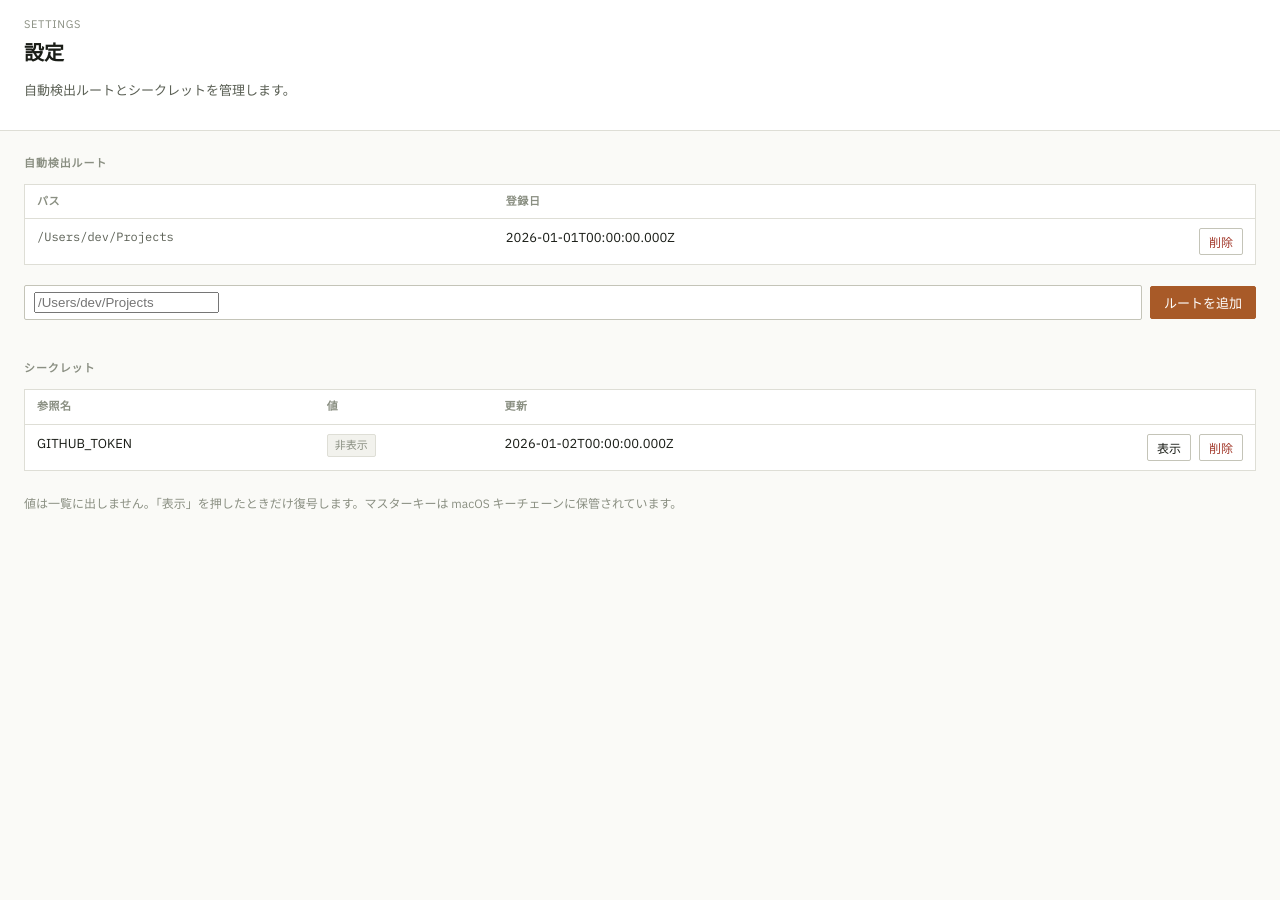
Settings › confirms before deleting a root, and cancel sends no DELETE
Expected: the text "/Users/dev/Projects" is shown, [25,219,494,264]
Click the button "削除" in the row of "/Users/dev/Projects". click: (1221,242)
box: [1199,228,1243,255]
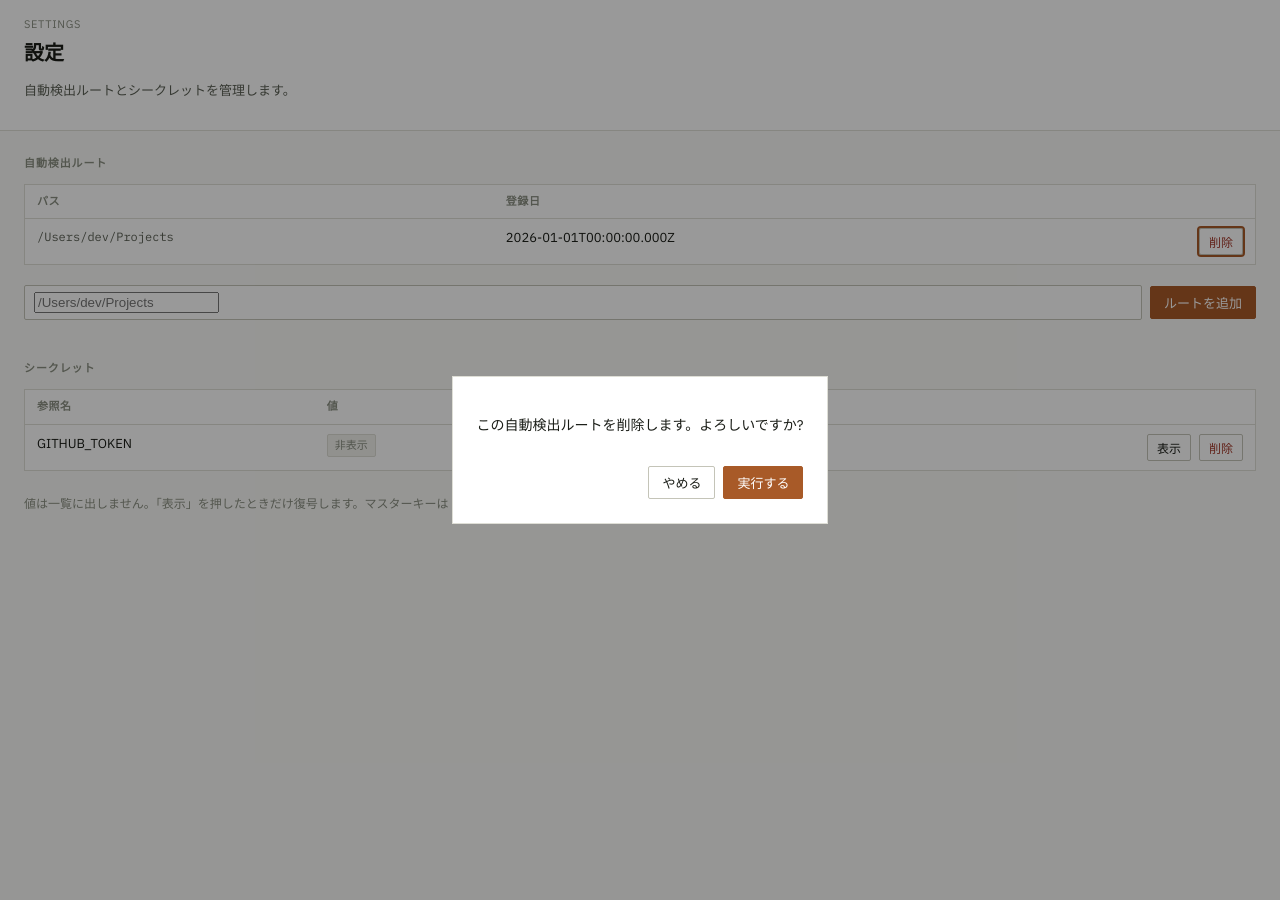
Click the button "やめる". click: (682,483)
box: [648,466,715,499]
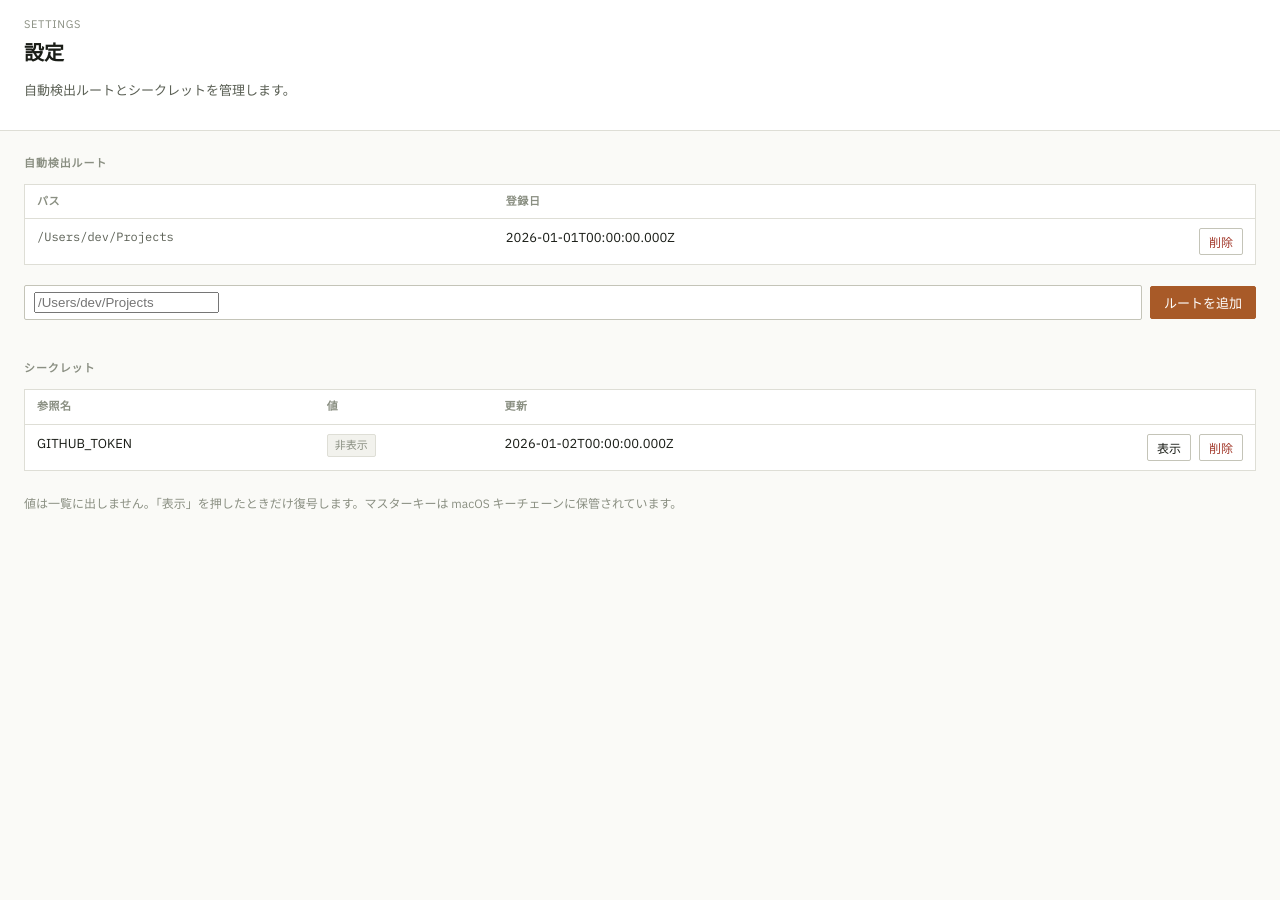
Expected: the dialog is gone
